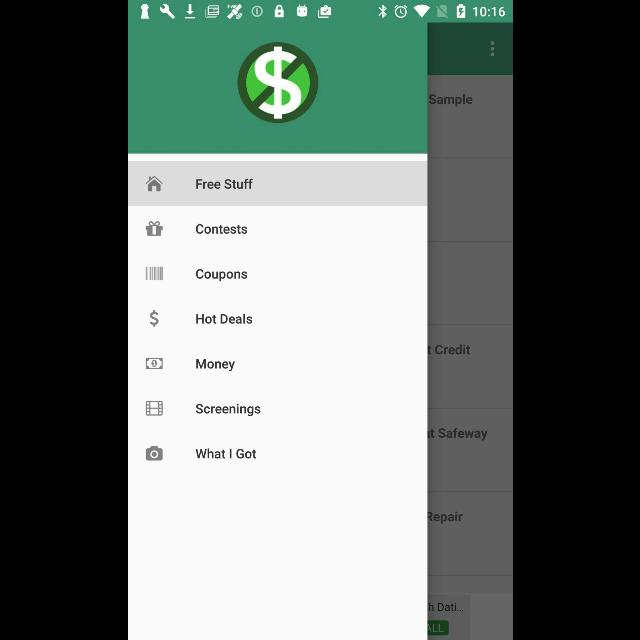icon: (145, 175, 163, 192), (146, 221, 162, 237), (146, 446, 162, 460), (149, 309, 159, 327), (490, 41, 494, 57)
image: (236, 42, 318, 124), (146, 400, 162, 416), (144, 267, 162, 281), (146, 358, 162, 370)
panel: (128, 24, 426, 640)
text: (194, 404, 260, 416), (195, 268, 247, 282), (195, 178, 252, 190), (194, 448, 256, 459), (195, 224, 247, 236), (194, 314, 252, 324), (195, 358, 235, 372)
uppertaskbar: (128, 1, 512, 23)
